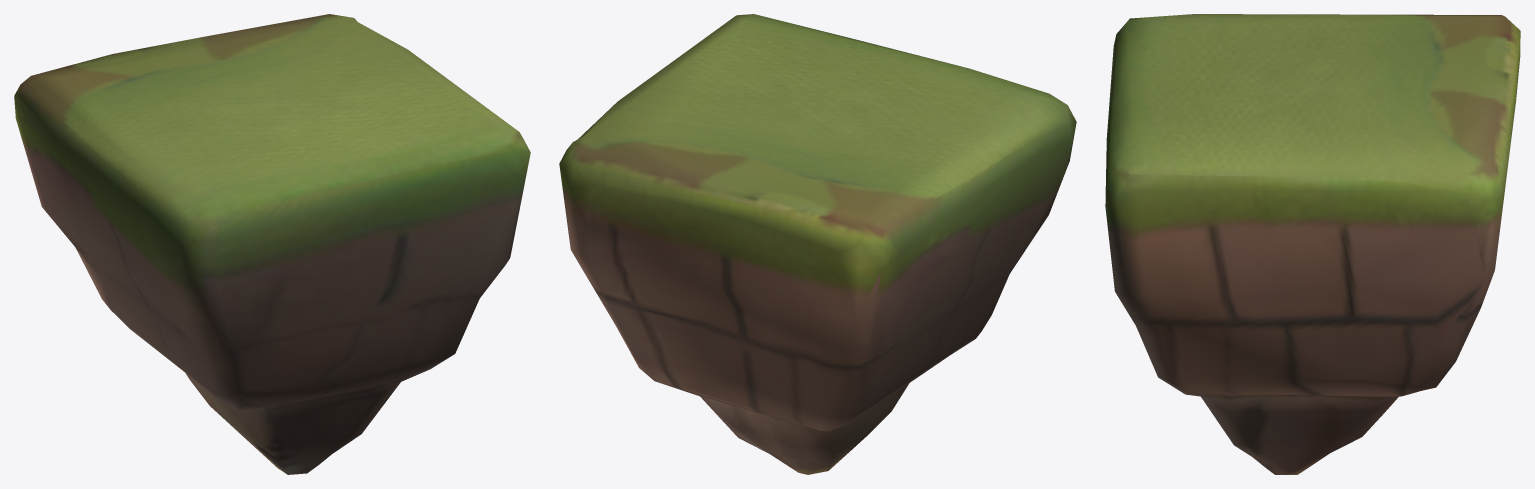
File: Ground_4.fbx
3 renders of one model, left to right at view 1: azimuth 30°, elevation 25°; view 2: azimuth 150°, elevation 25°; view 3: azimuth 270°, elevation 25°, orthographic. The views are drawn at different scales.
Visible parts, largest first — view 1: ground04; view 2: ground04; view 3: ground04.
Boxes of the visible parts, x1,y1,x2,y2 form: ground04: (14,14,530,474); ground04: (559,14,1076,474); ground04: (1105,14,1520,474).
Size of the model in its own units: 1 by 1 by 1.
